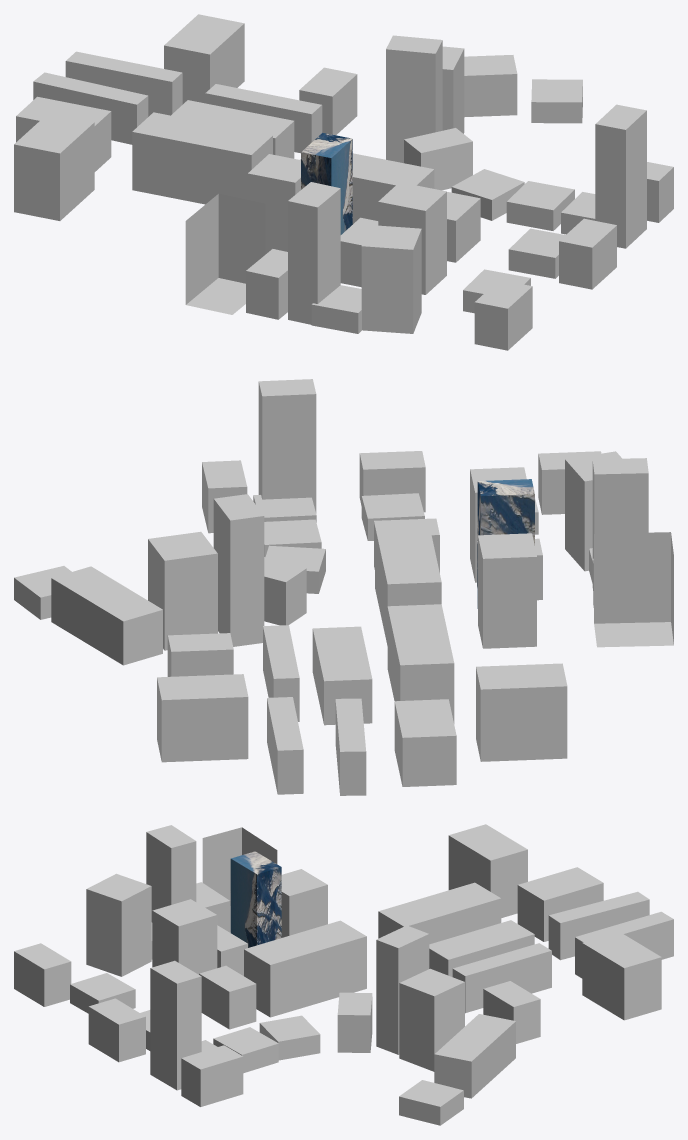
Rendered from level0.glb.
3 renders of one model, top to bottom at view 1: azimuth 30°, elevation 25°; view 2: azimuth 150°, elevation 25°; view 3: azimuth 270°, elevation 25°, orthographic. The views are drawn at different scales.
Parts seen in each view (by area): view 1: Cube, Cube.016, Cube.006, Cube.033, Cube.018, Cube.015, Cube.027, Cube.007, Cube.012, Cube.003, Cube.004, Cube.023 (+22 smaller); view 2: Cube.016, Cube.006, Cube.007, Cube.024, Cube.033, Cube.027, Cube.011, Cube.026, Cube, Cube.009, Cube.005, Cube.001 (+18 smaller); view 3: Cube.009, Cube.015, Cube.007, Cube.033, Cube.026, Cube.006, Cube.024, Cube, Cube.014, Cube.027, Cube.012, Cube.018 (+19 smaller).
Part boxes in pixels (x1,y1,x2,y2): Cube: (132, 112, 272, 204); Cube.016: (185, 193, 265, 314); Cube.006: (14, 113, 94, 220); Cube.033: (595, 104, 646, 248); Cube.018: (288, 182, 340, 324); Cube.015: (361, 225, 421, 333); Cube.027: (386, 35, 442, 163); Cube.007: (164, 14, 244, 104); Cube.012: (378, 182, 446, 294); Cube.003: (65, 51, 182, 116); Cube.004: (33, 72, 148, 144); Cube.023: (474, 279, 532, 350); Cube.016: (594, 532, 673, 647); Cube.006: (476, 663, 567, 761); Cube.007: (157, 674, 248, 762); Cube.024: (51, 566, 162, 665); Cube.033: (258, 379, 316, 513); Cube.027: (213, 494, 264, 646); Cube.011: (478, 533, 536, 648); Cube.026: (148, 531, 217, 650); Cube: (387, 604, 454, 723); Cube.009: (375, 523, 441, 645); Cube.005: (394, 699, 456, 786); Cube.001: (312, 626, 372, 725); Cube.009: (244, 920, 366, 1017); Cube.015: (86, 873, 151, 976); Cube.007: (582, 932, 661, 1020); Cube.033: (150, 960, 201, 1090); Cube.026: (399, 968, 464, 1071); Cube.006: (448, 824, 527, 917); Cube.024: (434, 1014, 515, 1098); Cube: (378, 882, 501, 944); Cube.014: (230, 851, 281, 947); Cube.027: (376, 925, 429, 1054); Cube.012: (152, 899, 217, 974); Cube.018: (146, 825, 196, 922).
Size of what is drawn, in the model's own units: 98.68 by 20.6 by 115.
Materials: 1 (1 with a texture image).
